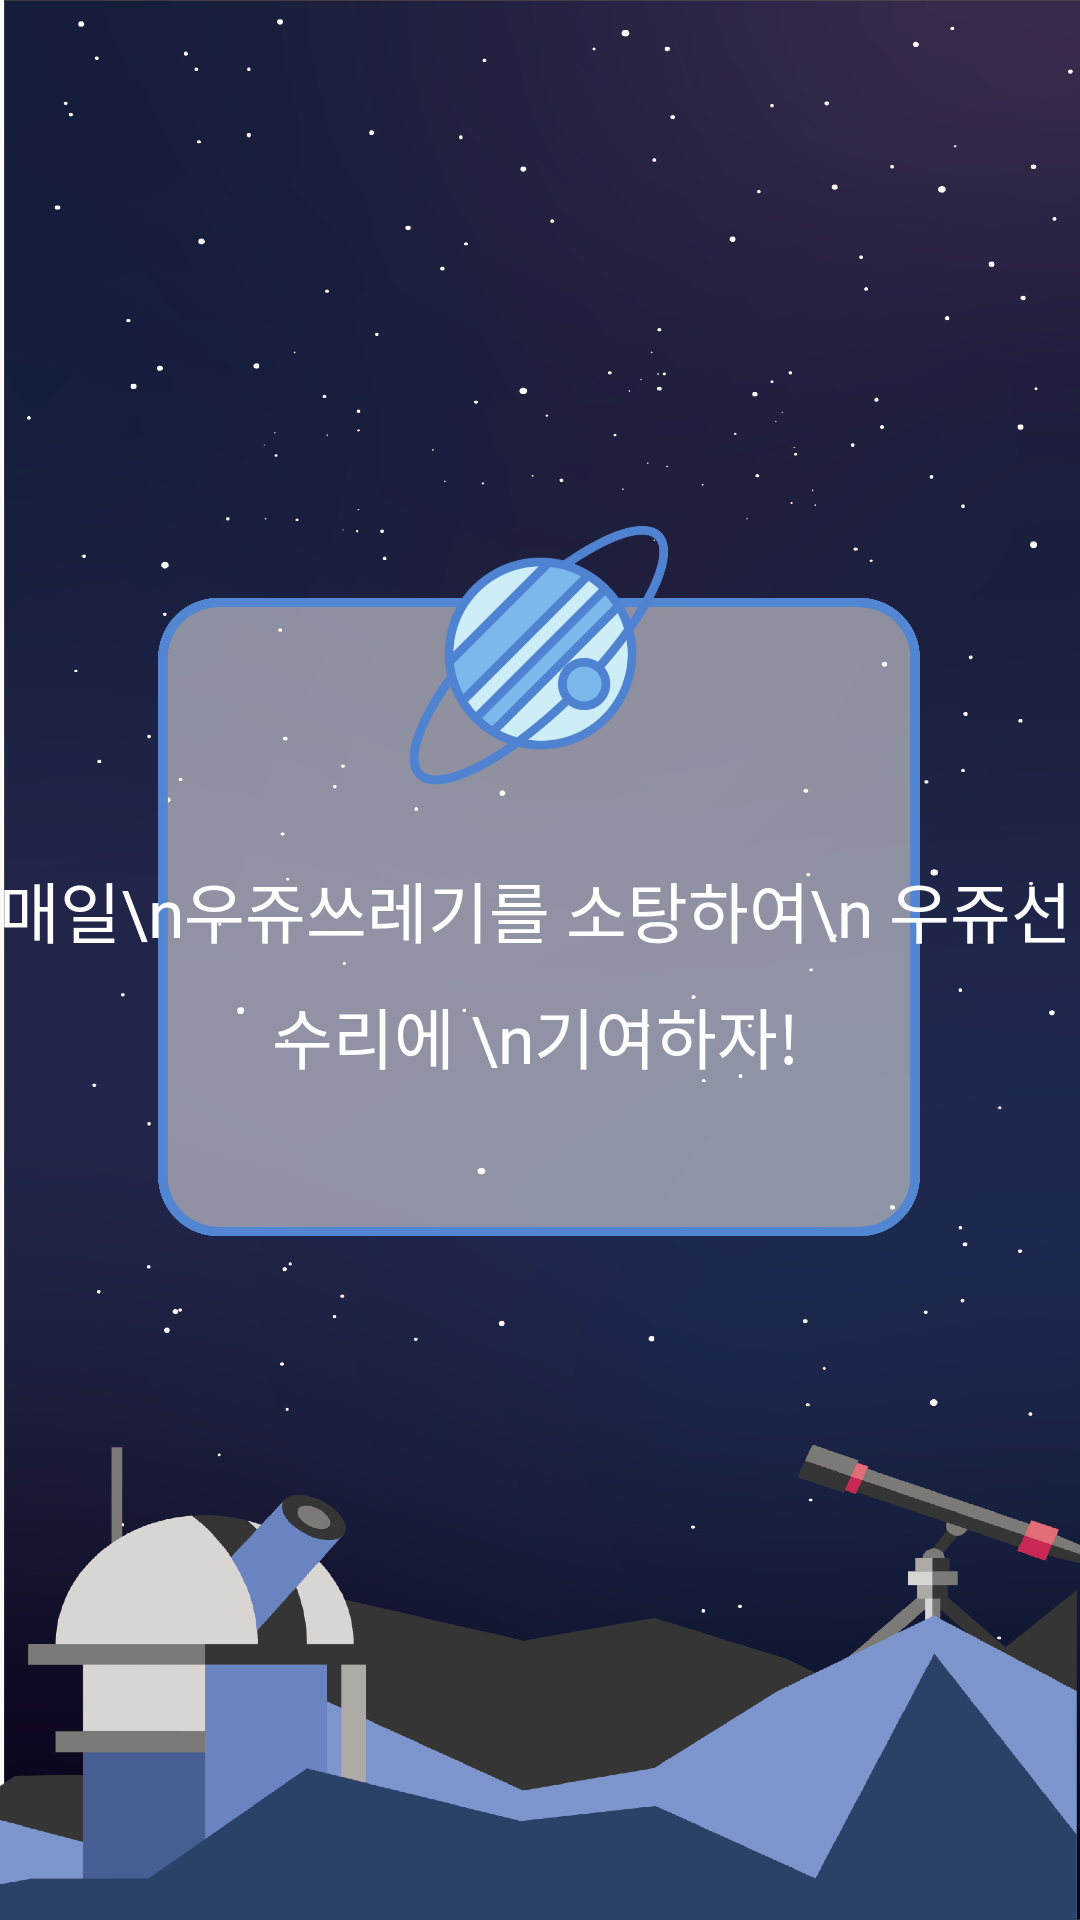

Named icons in this screenshot (1080x1920) and their centers, (x,y):
saturn: (540,653)
